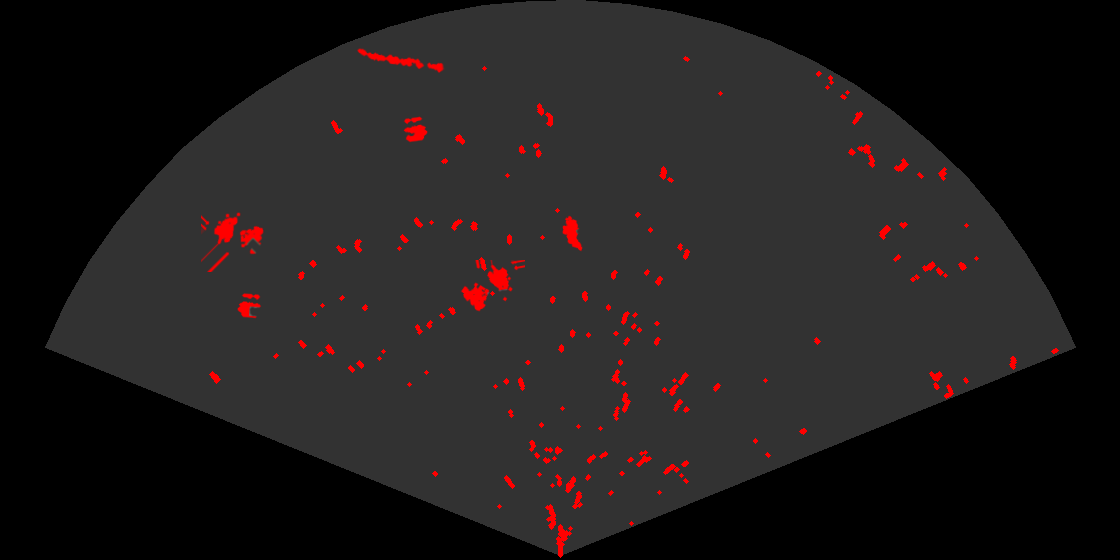AUV: (561, 214, 584, 253)
ball: (402, 115, 429, 144), (236, 292, 263, 320)
cage: (201, 211, 265, 272), (459, 260, 525, 313)
chain: (356, 47, 445, 75)
